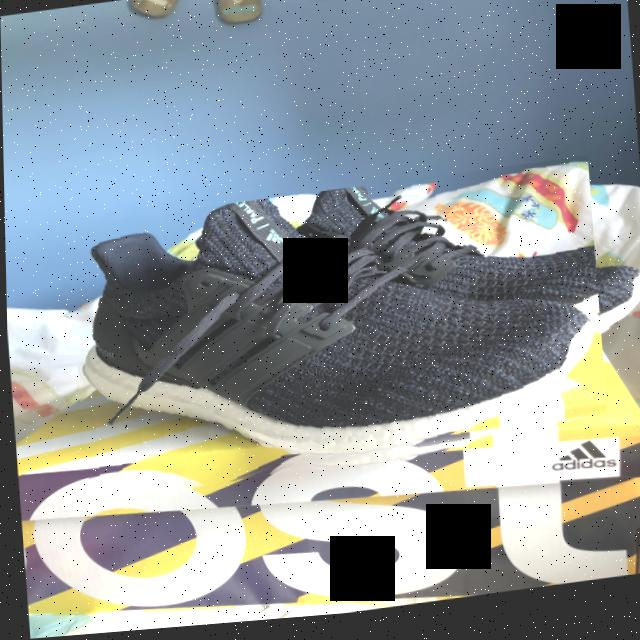shoe: (61, 165, 607, 509)
